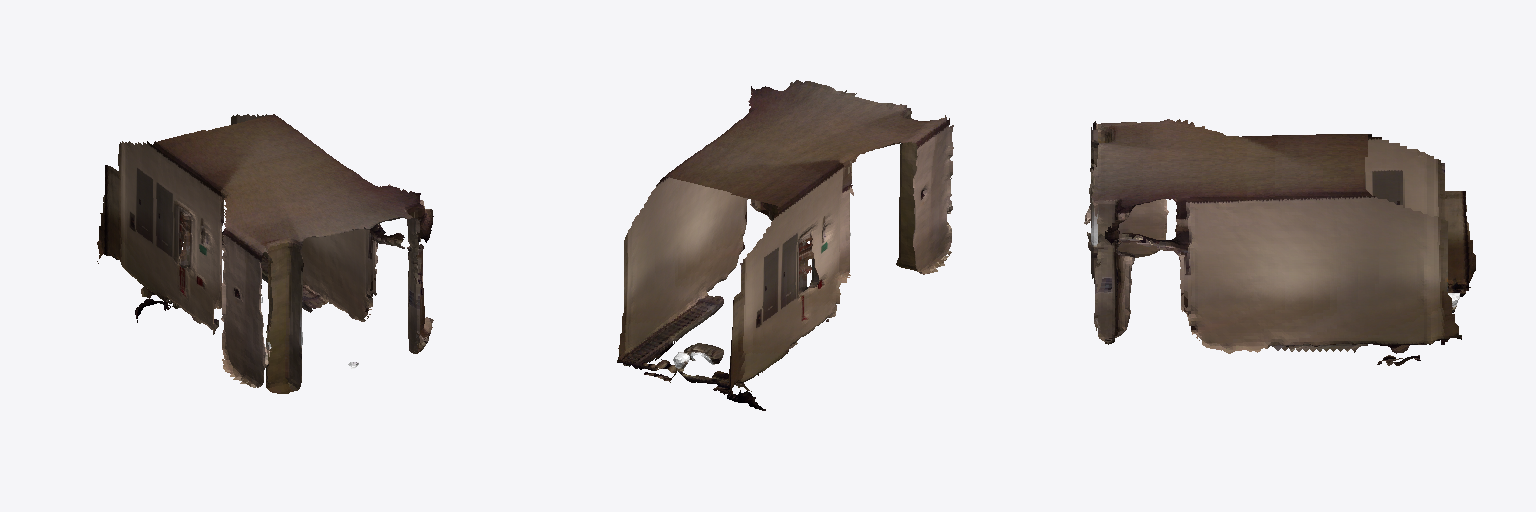
3 renders of one model, left to right at view 1: azimuth 30°, elevation 25°; view 2: azimuth 150°, elevation 25°; view 3: azimuth 270°, elevation 25°, orthographic.
Size of the model in its own units: 4.02 by 3.86 by 7.04.
1 materials, 1 textured.